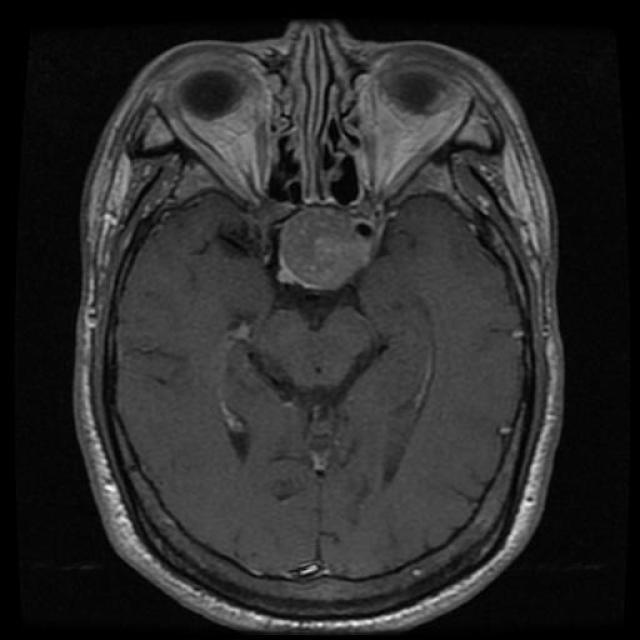pituitary: (268, 203, 384, 302)
